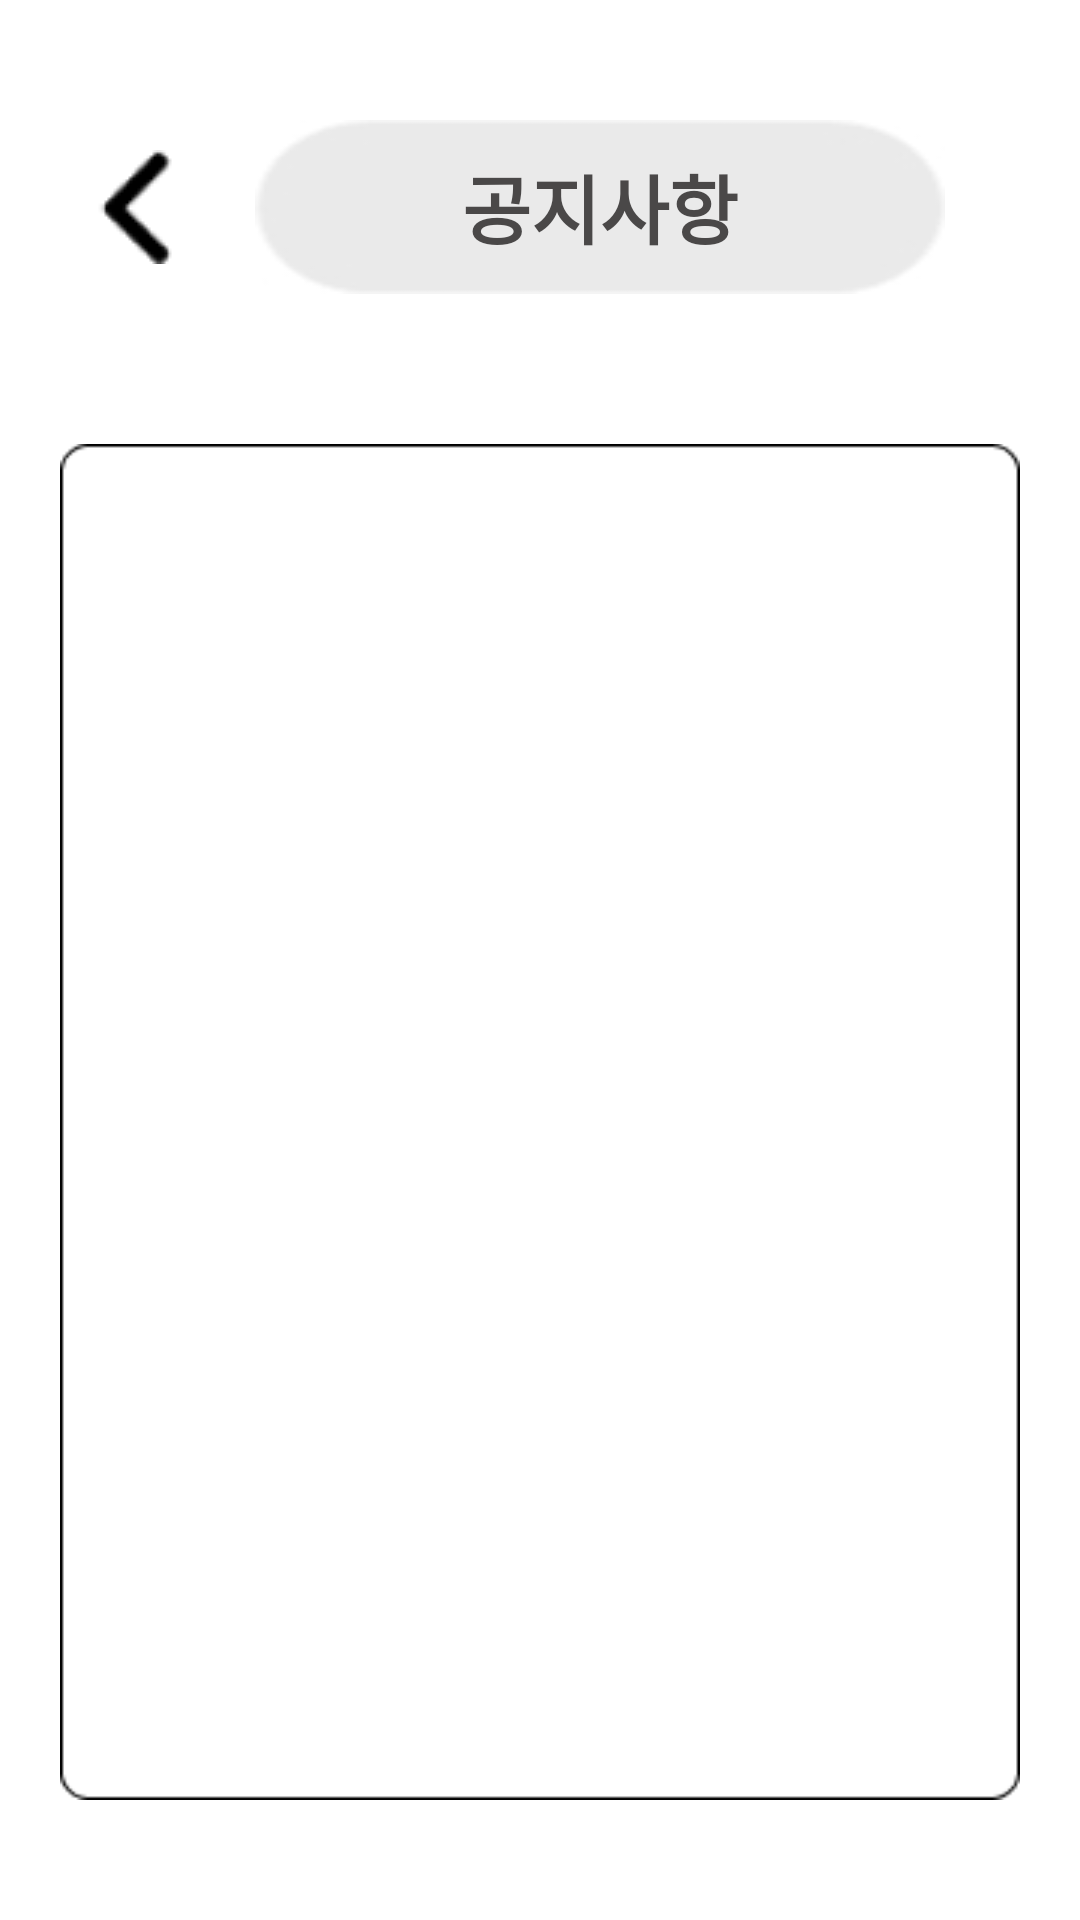

Named icons in this screenshot (1080 x 1920) and their bounding boxes, box(x1, y1, x2, y2):
back: box(102, 150, 171, 264)
